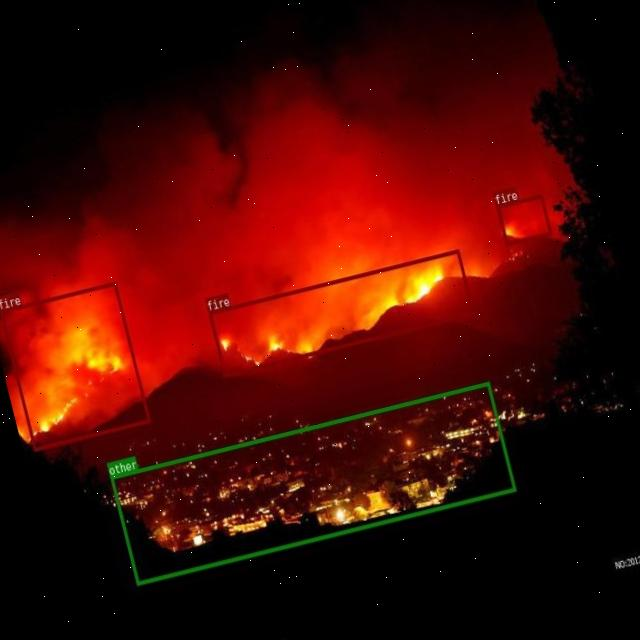fire: (208, 248, 474, 376), (0, 280, 149, 450), (495, 194, 551, 245)
